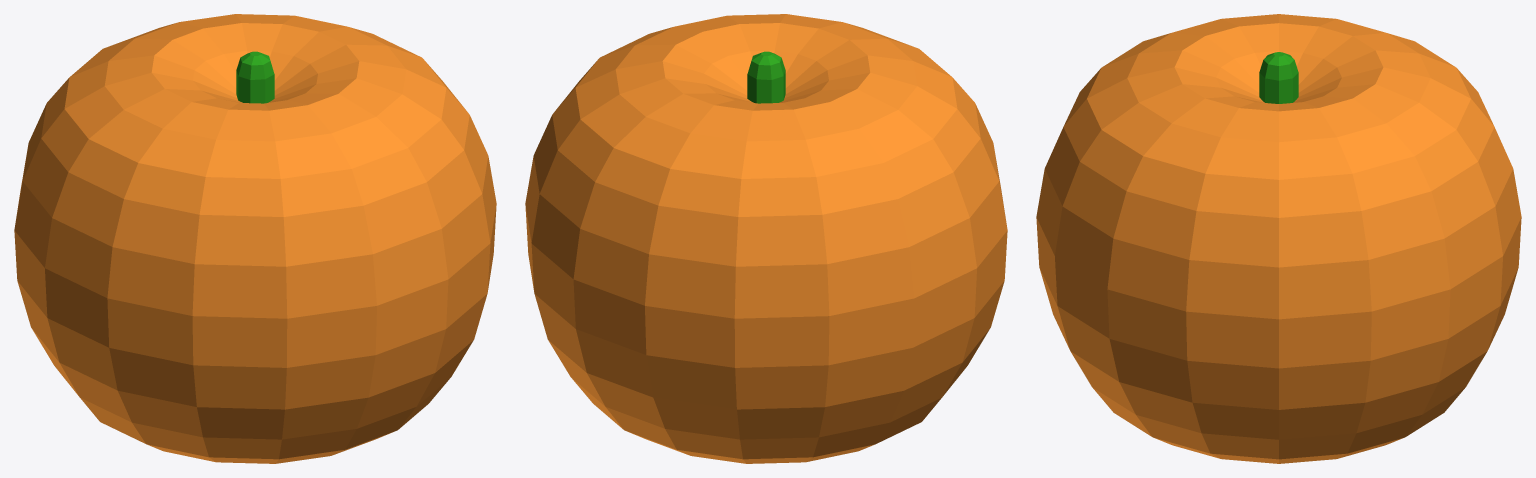
File: Azka Ghafara_140810200037_Orange1.fbx
The picture shows the model from 3 angles, left to right: view 1: azimuth 30°, elevation 25°; view 2: azimuth 150°, elevation 25°; view 3: azimuth 270°, elevation 25°; orthographic projection.
Visible parts, largest first — view 1: Orange, Stem; view 2: Orange, Stem; view 3: Orange, Stem.
Boxes of the visible parts, x1,y1,x2,y2 form: Orange: (14,14,496,463); Stem: (236,51,274,103); Orange: (525,14,1007,463); Stem: (747,51,785,103); Orange: (1036,14,1521,463); Stem: (1259,52,1298,103).
Size of the model in its own units: 191 by 150 by 191.
